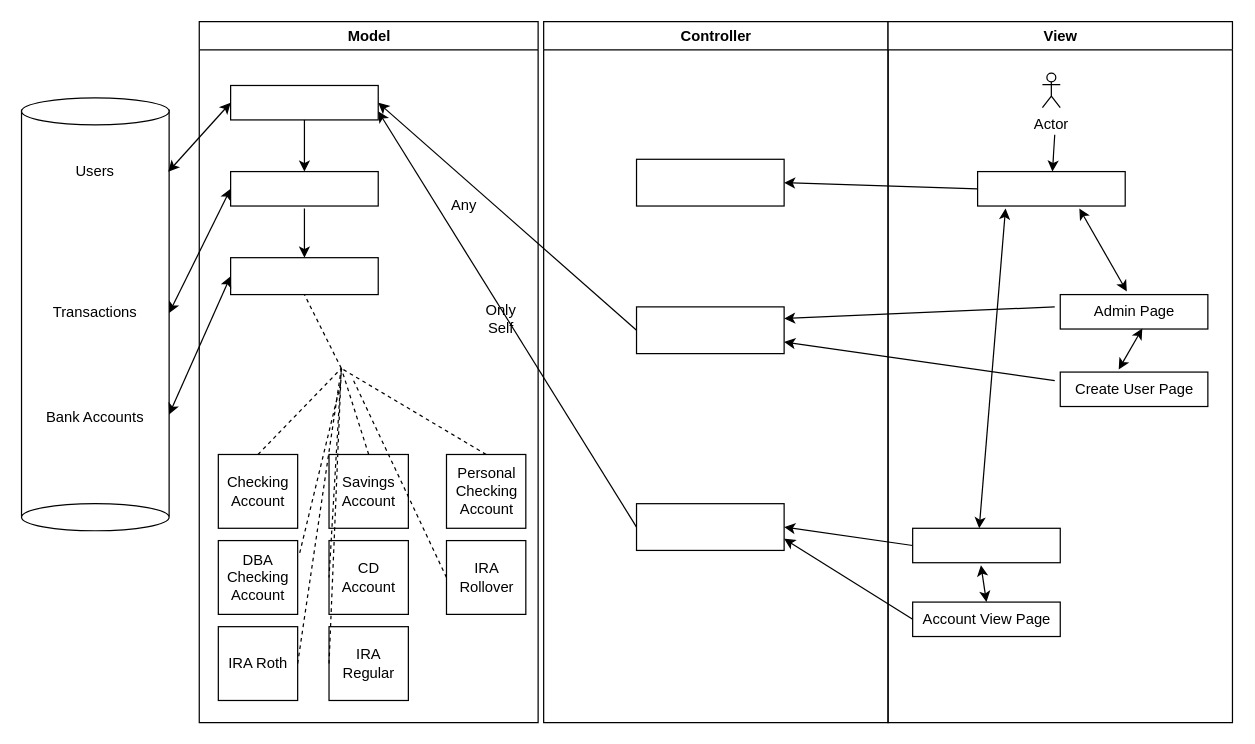
This 1255x744 diagram has some shape labels left out. The shapes that lost their labels are listed below. From the top down, each one's centre as x and y in pixels, then its label:
pixel 303 102: User
pixel 303 188: Transaction
pixel 709 182: Security Controller
pixel 1050 188: Login Page
pixel 303 275: Bank Account
pixel 709 330: Admin Controller
pixel 709 526: User Controller
pixel 985 545: User Page
